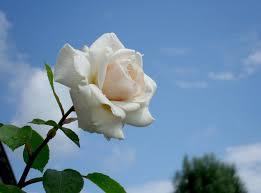Rose: (46, 30, 165, 143)
